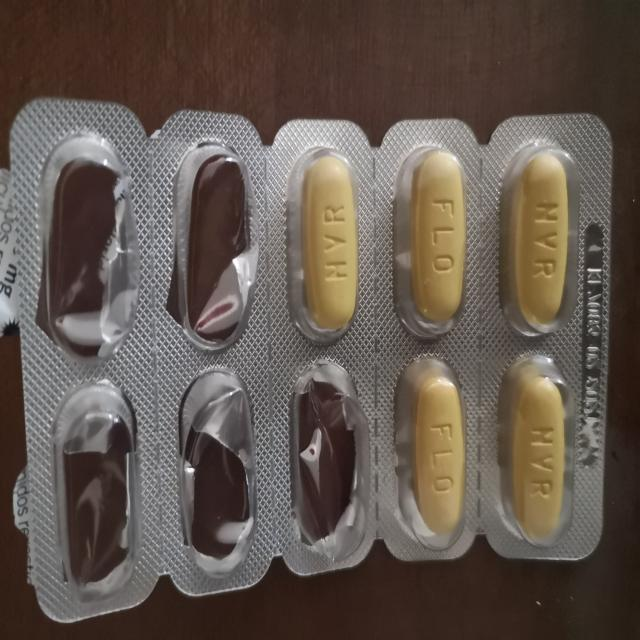Empty: (32, 128, 142, 361), (163, 136, 264, 354), (44, 371, 138, 604), (172, 364, 259, 582), (281, 353, 373, 559)
Pill: (498, 132, 582, 346), (284, 142, 372, 346), (394, 139, 472, 342), (502, 352, 570, 550)
